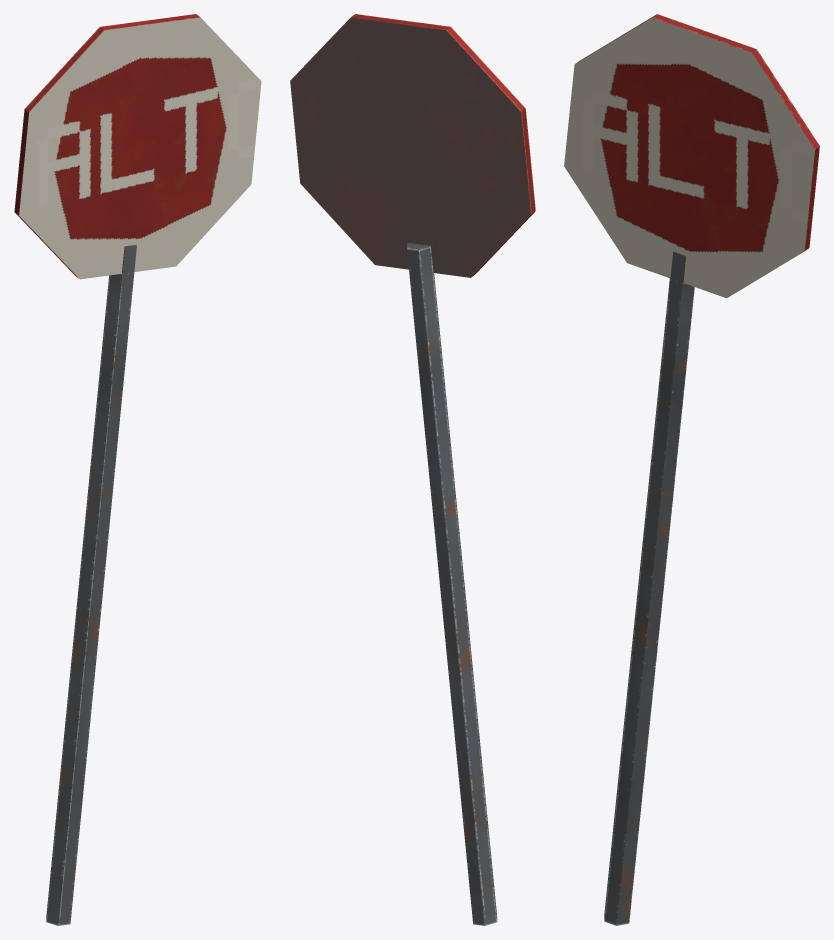
Rendered from Senal_Alto.glb.
3 views of the same model, side by side, from view 1: azimuth 30°, elevation 25°; view 2: azimuth 150°, elevation 25°; view 3: azimuth 330°, elevation 25° (orthographic). The views are drawn at different scales.
Parts seen in each view (by area): view 1: Senal_Alto; view 2: Senal_Alto; view 3: Senal_Alto.
Part boxes in pixels (box(x1,y1,x2,y2)): Senal_Alto: box(14, 14, 261, 925); Senal_Alto: box(290, 14, 535, 925); Senal_Alto: box(564, 14, 819, 925).
Size of the model in its own units: 2.4 by 8.37 by 0.2078.
1 material, 1 textured.
